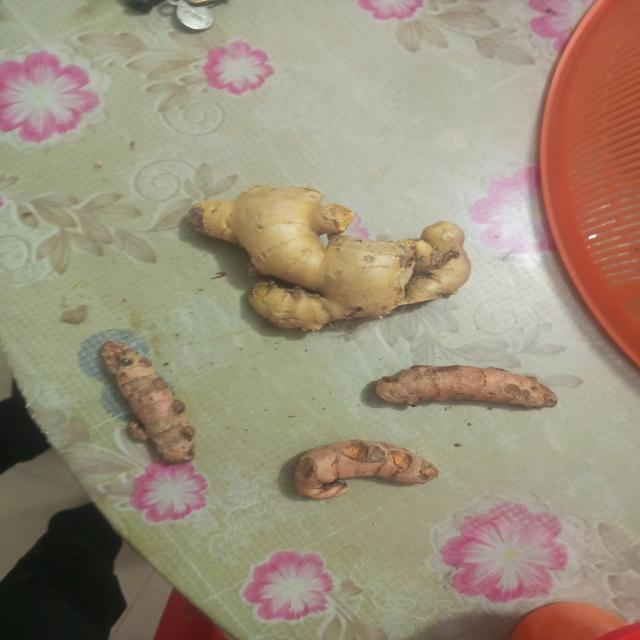ginger: (192, 186, 462, 320), (96, 341, 194, 462), (376, 366, 562, 411), (292, 443, 434, 496)
